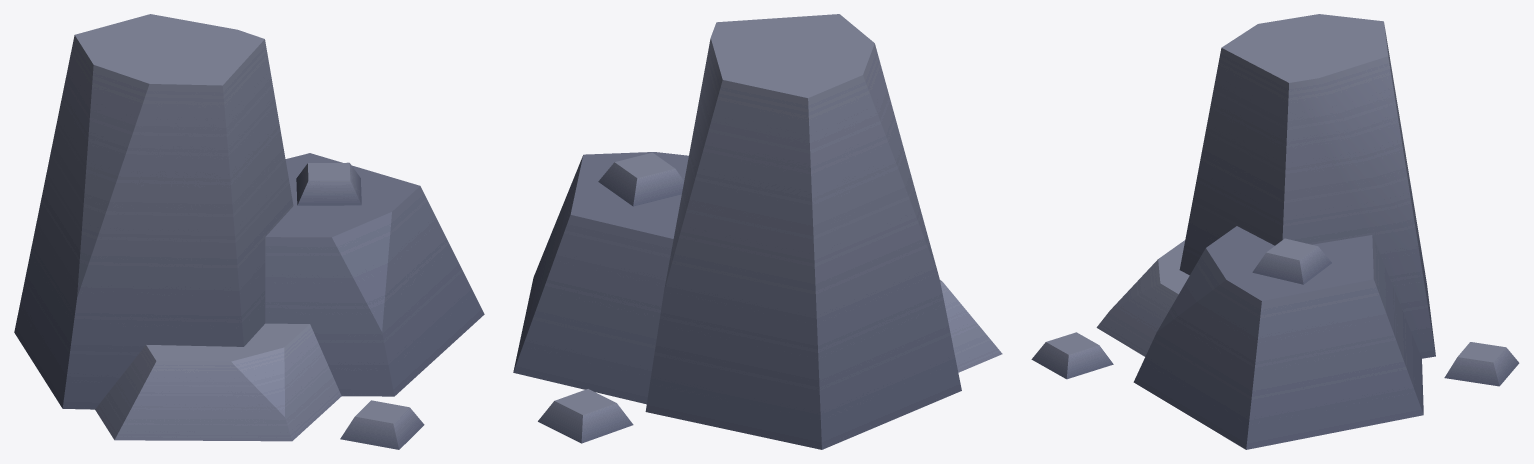
Rendered from rock-a.glb.
3 renders of one model, left to right at view 1: azimuth 30°, elevation 25°; view 2: azimuth 150°, elevation 25°; view 3: azimuth 270°, elevation 25°, orthographic. The views are drawn at different scales.
Visible parts, largest first — view 1: rock-a; view 2: rock-a; view 3: rock-a.
Boxes of the visible parts, <box> form: rock-a: <box>14,14,484,449</box>; rock-a: <box>513,14,1002,449</box>; rock-a: <box>1031,14,1519,449</box>.
Bounding box in the file's own units: 0.5552 × 0.3927 × 0.6216.
1 material, 1 textured.
